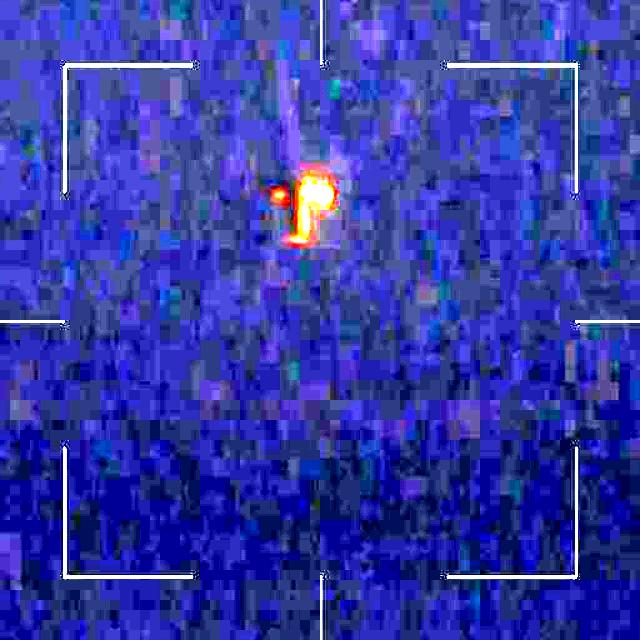bird: (261, 171, 332, 239)
